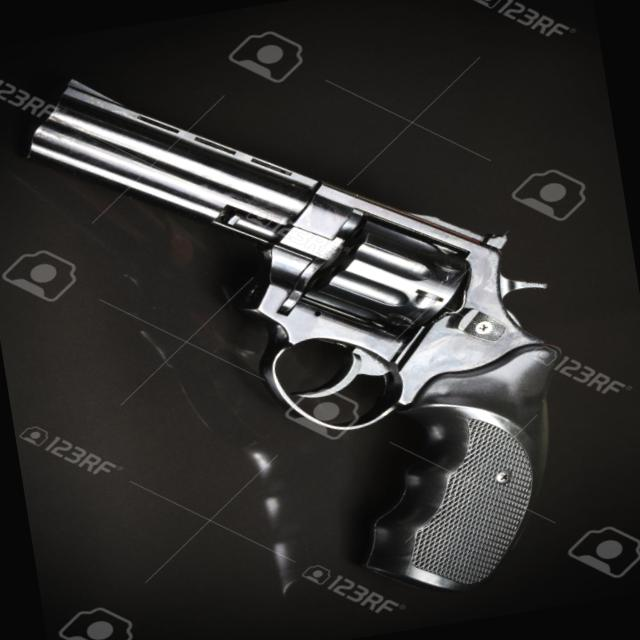handgun: (9, 0, 599, 639)
